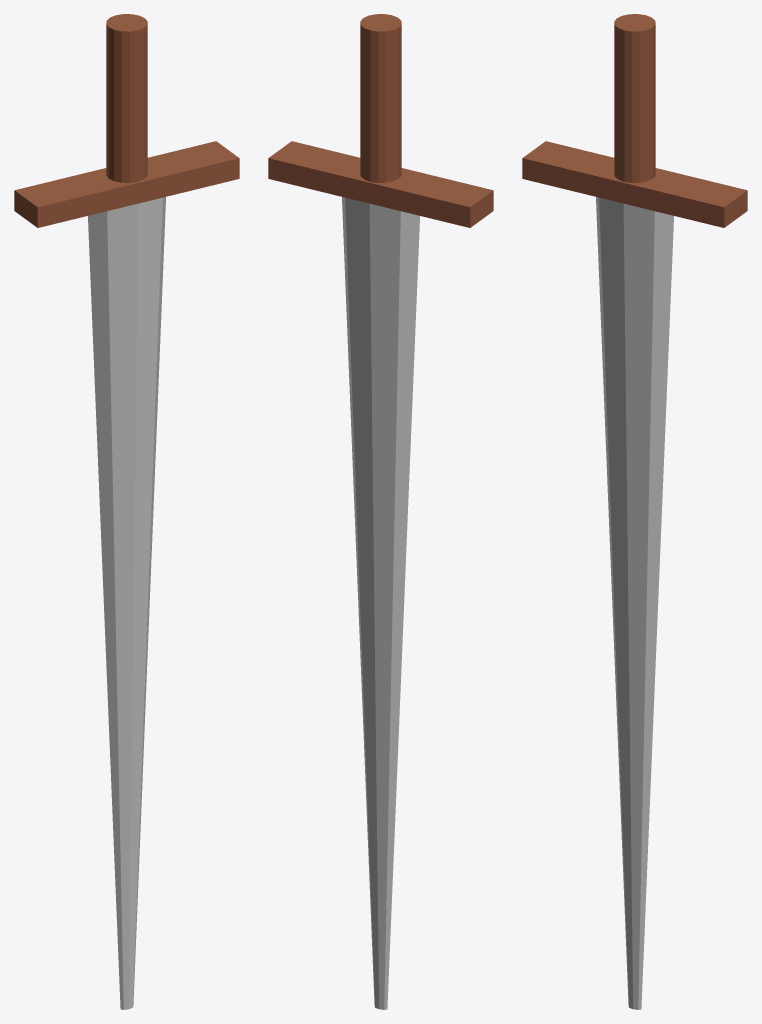
Rendered from EpéeHades.fbx.
3 views of the same model, side by side, from view 1: azimuth 30°, elevation 25°; view 2: azimuth 150°, elevation 25°; view 3: azimuth 330°, elevation 25° (orthographic).
Visible parts, largest first — view 1: Cylinder.001; view 2: Cylinder.001; view 3: Cylinder.001.
Part boxes in pixels (bbox=[...]): Cylinder.001: bbox=[14, 14, 239, 1009]; Cylinder.001: bbox=[268, 14, 493, 1009]; Cylinder.001: bbox=[522, 14, 747, 1009].
Bounding box in the file's own units: 150 × 700 × 30.
